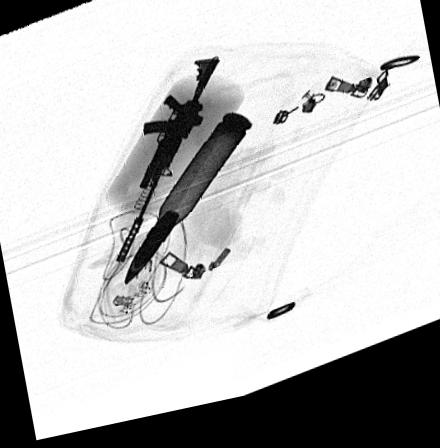Bullet: (125, 121, 254, 290)
Gun: (117, 69, 219, 267)
